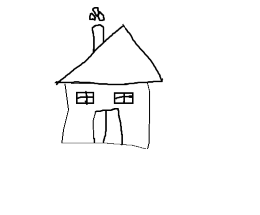closed_window: (111, 91, 139, 108), (72, 90, 98, 108)
door: (89, 107, 126, 150)
roof: (56, 22, 172, 88)
smoking_chimney: (80, 4, 108, 52)
wall: (55, 79, 155, 150)
